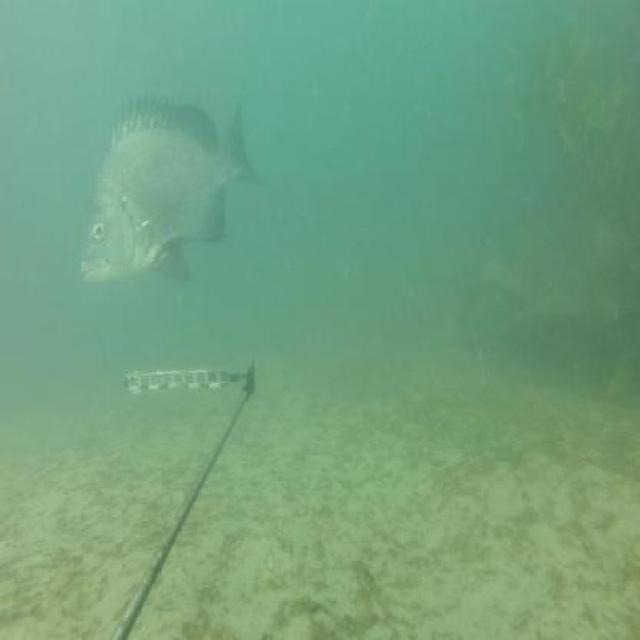acanthopagrus_palmaris: (77, 91, 266, 292)
